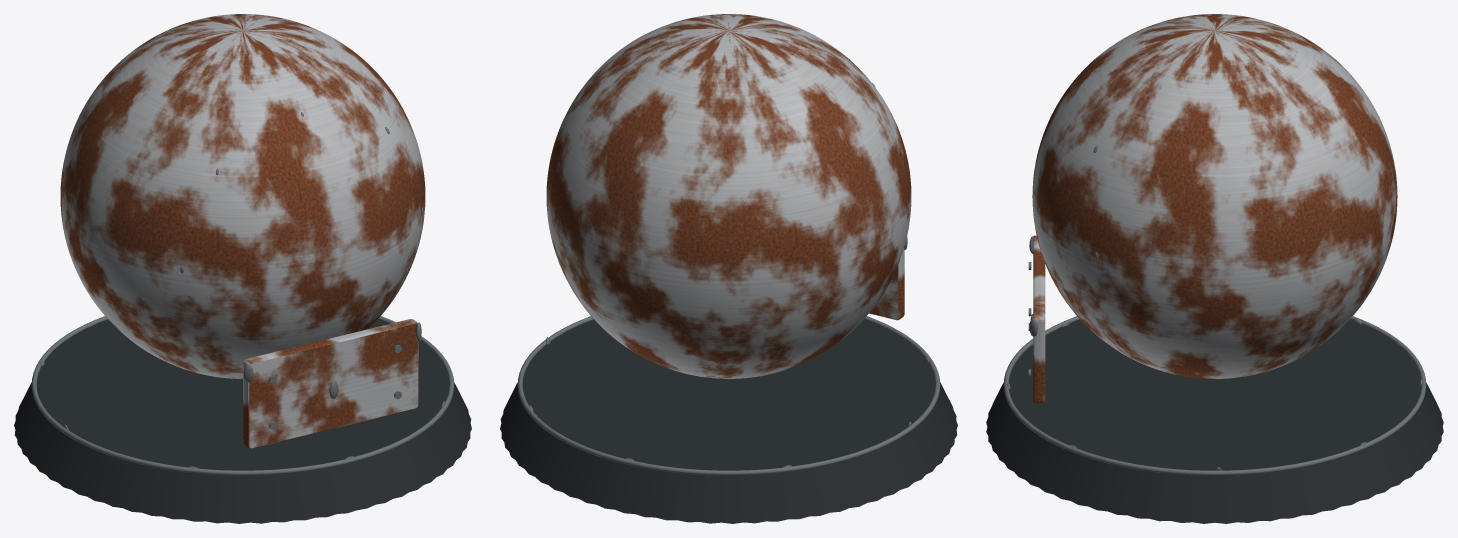
3 renders of one model, left to right at view 1: azimuth 30°, elevation 25°; view 2: azimuth 150°, elevation 25°; view 3: azimuth 270°, elevation 25°, orthographic.
Parts seen in each view (by area): view 1: surface specimen, neutral specimen stand, specimen edge; view 2: surface specimen, neutral specimen stand, specimen edge; view 3: surface specimen, neutral specimen stand, specimen edge.
Boxes of the visible parts, <box> form: surface specimen: <box>60,14,425,448</box>; neutral specimen stand: <box>14,319,471,523</box>; specimen edge: <box>31,316,454,475</box>; surface specimen: <box>546,14,911,378</box>; neutral specimen stand: <box>500,319,957,523</box>; specimen edge: <box>517,316,940,475</box>; surface specimen: <box>1032,14,1397,403</box>; neutral specimen stand: <box>986,319,1443,523</box>; specimen edge: <box>1003,262,1426,475</box>.
Size of the model in its own units: 0.539 by 0.515 by 0.539.
Materials: 4 (1 with a texture image).
